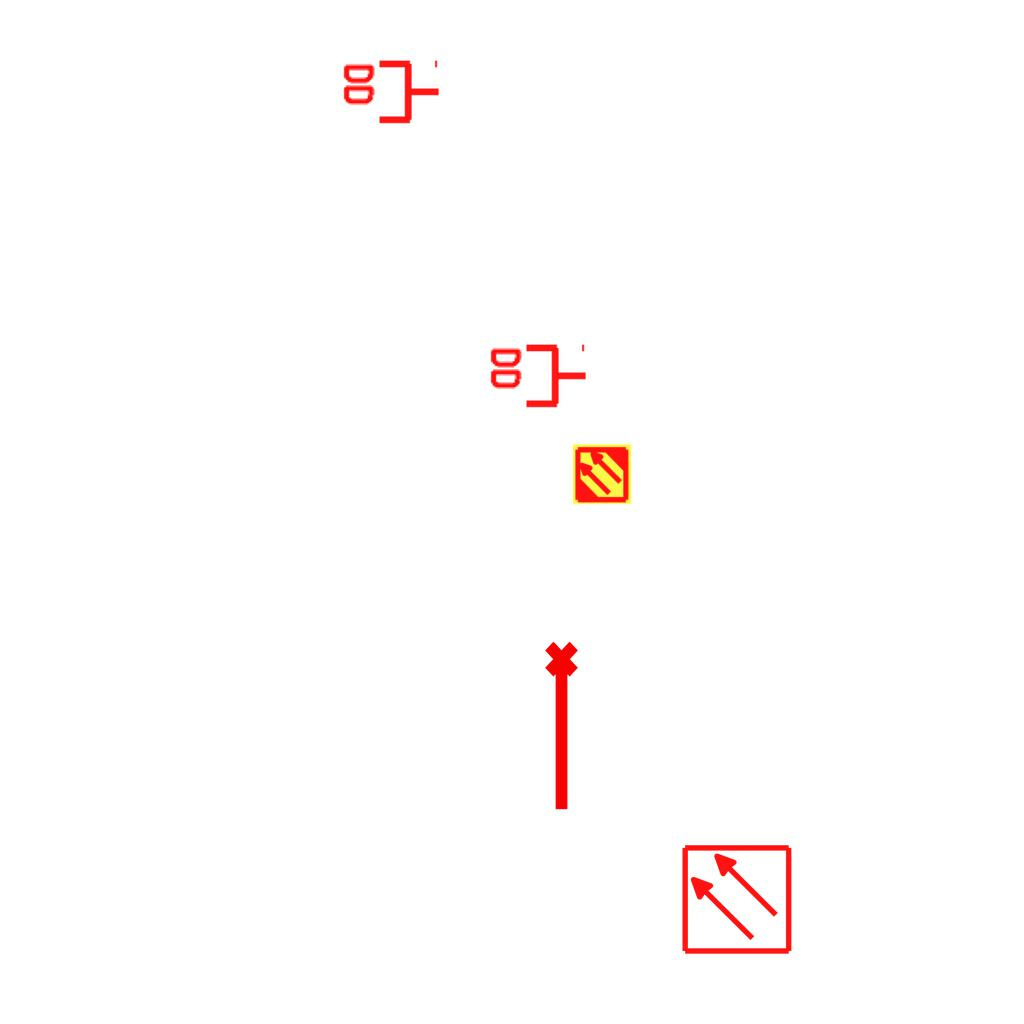ASR_Ansaugoeffnung: (541, 639, 587, 815)
ASR_Ansaugrauchmelder: (571, 443, 633, 505)
Datenanschluss_zweifach: (486, 343, 589, 412), (339, 59, 442, 128)
RMO_Rauchmelder_optischer: (680, 843, 793, 956)
